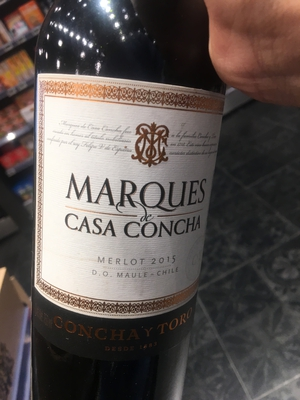marques de casa concha merlot: (29, 10, 223, 383)
